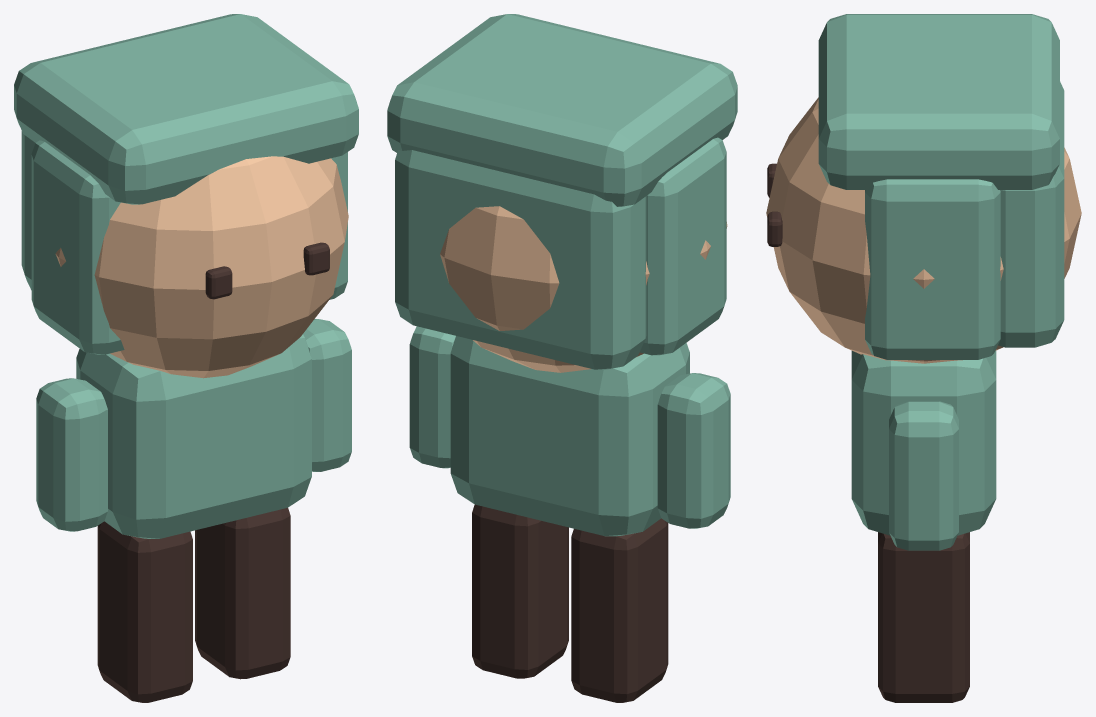
The model's file is kar_warga_sinta.fbx.
The picture shows the model from 3 angles, left to right: view 1: azimuth 30°, elevation 25°; view 2: azimuth 150°, elevation 25°; view 3: azimuth 270°, elevation 25°; orthographic projection.
Visible parts, largest first — view 1: kar_warga_sinta; view 2: kar_warga_sinta; view 3: kar_warga_sinta.
Boxes of the visible parts, x1,y1,x2,y2 form: kar_warga_sinta: [14, 14, 358, 702]; kar_warga_sinta: [387, 14, 737, 702]; kar_warga_sinta: [766, 14, 1081, 702].
Bounding box in the file's own units: 79 × 152 × 72.
Materials: 1 (1 with a texture image).
